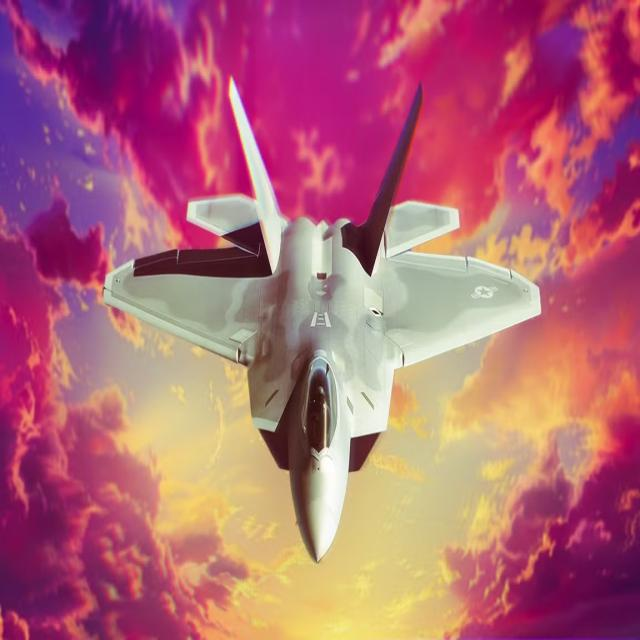F22: (86, 55, 562, 581)
